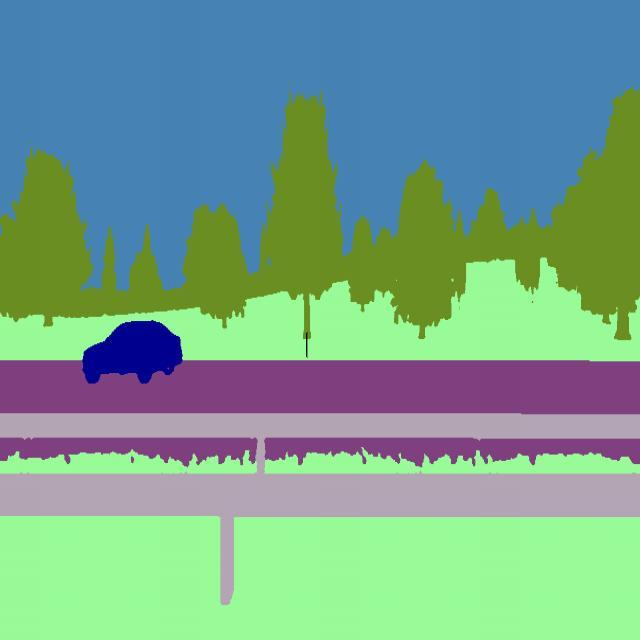safe: (82, 311, 186, 385)
